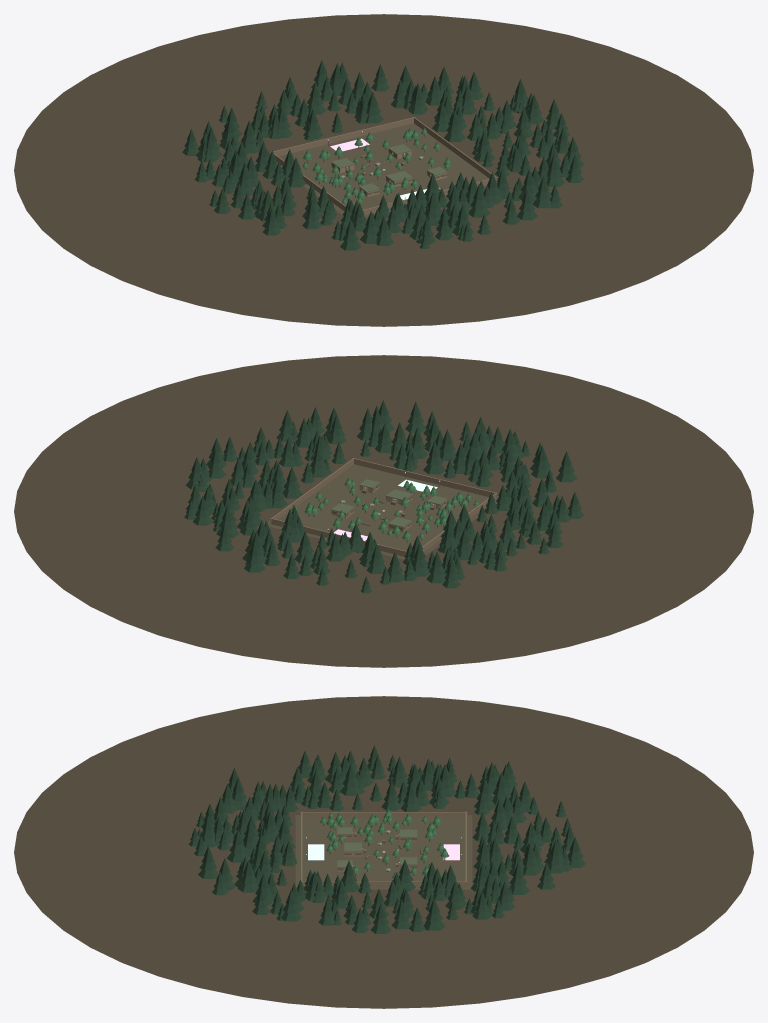
File: bos.glb
3 renders of one model, top to bottom at view 1: azimuth 30°, elevation 25°; view 2: azimuth 150°, elevation 25°; view 3: azimuth 270°, elevation 25°, orthographic.
Parts seen in each view (by area): view 1: deco_grondrand, deco_bosrand, floor.002, deco_naalden, fN, fE; view 2: deco_grondrand, deco_bosrand, floor.002, deco_naalden, fS, fE; view 3: deco_grondrand, deco_bosrand, floor.002, deco_naalden, fW.
Part boxes in pixels (x1,y1,x2,y2): deco_grondrand: [14, 14, 753, 326]; deco_bosrand: [182, 60, 584, 250]; floor.002: [277, 123, 497, 217]; deco_naalden: [302, 127, 451, 203]; fN: [270, 117, 414, 156]; fE: [413, 117, 497, 182]; deco_grondrand: [14, 355, 753, 667]; deco_bosrand: [184, 400, 584, 593]; floor.002: [264, 464, 498, 559]; deco_naalden: [291, 477, 478, 539]; fS: [353, 458, 497, 498]; fE: [270, 458, 354, 524]; deco_grondrand: [14, 696, 753, 1008]; deco_bosrand: [188, 745, 585, 933]; floor.002: [295, 815, 472, 889]; deco_naalden: [320, 809, 449, 878]; fW: [300, 812, 467, 817].
Bounding box in the file's own units: 360 × 18.74 × 360.
